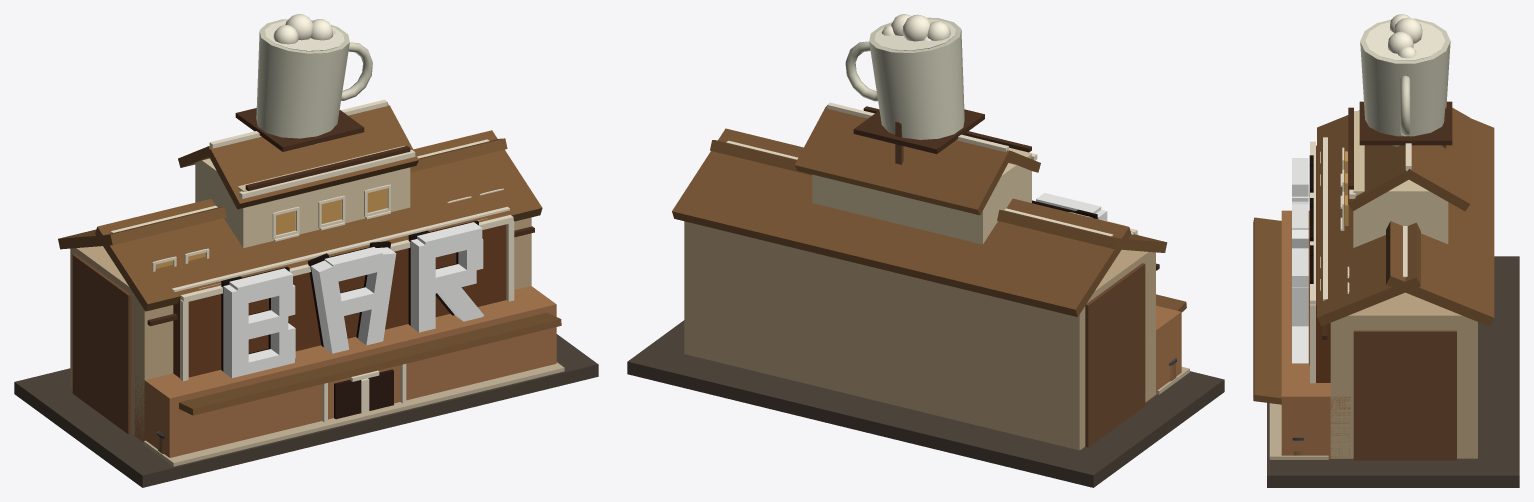
Rendered from bar-building-wide.glb.
3 renders of one model, left to right at view 1: azimuth 30°, elevation 25°; view 2: azimuth 150°, elevation 25°; view 3: azimuth 270°, elevation 25°, orthographic. The views are drawn at different scales.
Visible parts, largest first — view 1: bar_building_wide; view 2: bar_building_wide; view 3: bar_building_wide.
Part boxes in pixels (left/top/right/bottom): bar_building_wide: left=14, top=14, right=598, bottom=487; bar_building_wide: left=627, top=14, right=1224, bottom=487; bar_building_wide: left=1253, top=14, right=1519, bottom=487.
Bounding box in the file's own units: 22.4 × 17.11 × 11.49.
